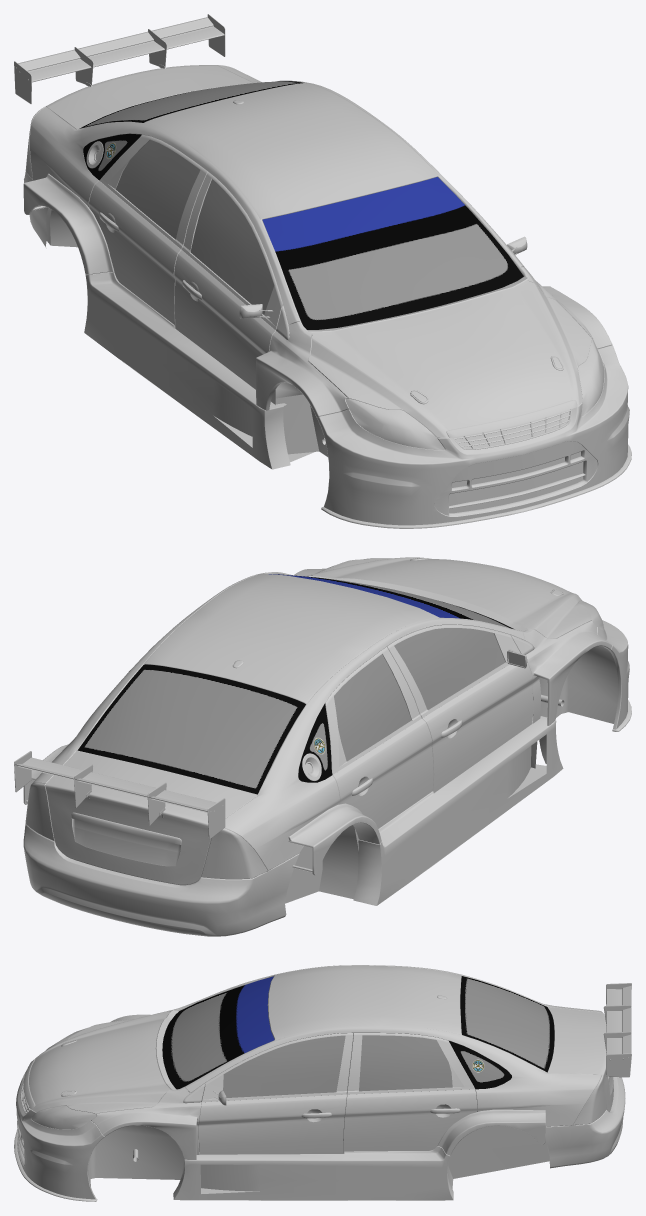
File: FocE.FBX
3 views of the same model, one above another, from view 1: azimuth 30°, elevation 25°; view 2: azimuth 150°, elevation 25°; view 3: azimuth 270°, elevation 25° (orthographic). The views are drawn at different scales.
Visible parts, largest first — view 1: FocE_Carbody, FocE_Hood, FocE_Front; view 2: FocE_Carbody, FocE_Bumper, FocE_Hood, FocE_Front; view 3: FocE_Carbody, FocE_Hood, FocE_Front, FocE_Bumper.
Part boxes in pixels (x1,y1,x2,y2): FocE_Carbody: (14, 14, 612, 469); FocE_Hood: (308, 280, 591, 437); FocE_Front: (317, 345, 631, 528); FocE_Carbody: (14, 558, 618, 905); FocE_Bumper: (23, 824, 299, 936); FocE_Hood: (311, 557, 591, 638); FocE_Front: (597, 620, 631, 731); FocE_Carbody: (20, 965, 631, 1200); FocE_Hood: (23, 1011, 170, 1113); FocE_Front: (14, 1070, 104, 1201); FocE_Bumper: (545, 1077, 625, 1168).
Size of what is drawn, in the model's own units: 194 by 130 by 466.
